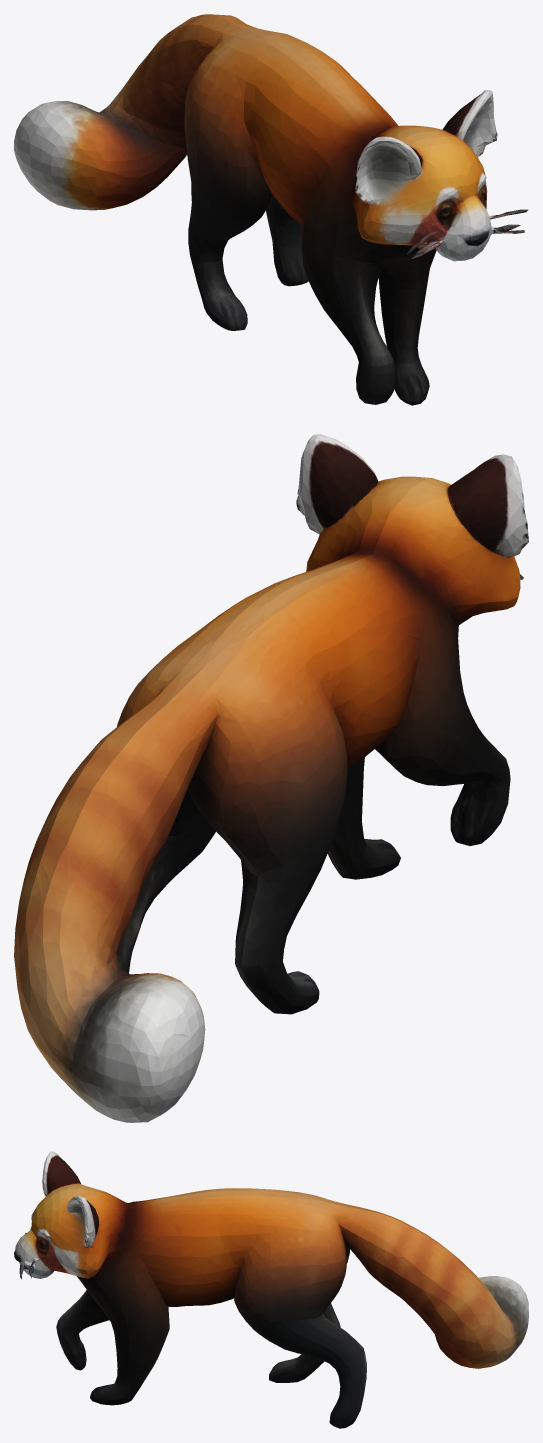
File: red_panda.glb
3 renders of one model, top to bottom at view 1: azimuth 30°, elevation 25°; view 2: azimuth 150°, elevation 25°; view 3: azimuth 270°, elevation 25°, orthographic. The views are drawn at different scales.
Parts seen in each view (by area): view 1: geometry_0; view 2: geometry_0; view 3: geometry_0.
Boxes of the visible parts, x1,y1,x2,y2 form: geometry_0: (14, 14, 528, 405); geometry_0: (14, 434, 528, 1122); geometry_0: (14, 1151, 528, 1428).
Bounding box in the file's own units: 0.3242 × 0.5063 × 1.
Materials: 1 (1 with a texture image).
